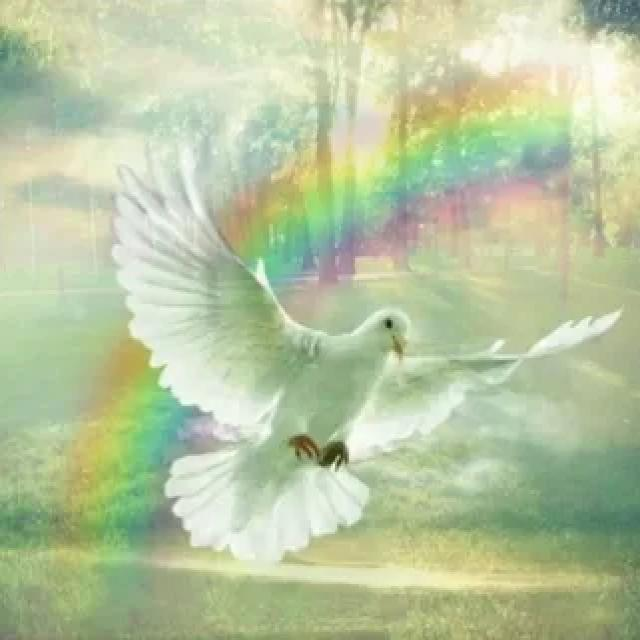pigeon: (90, 129, 610, 563)
